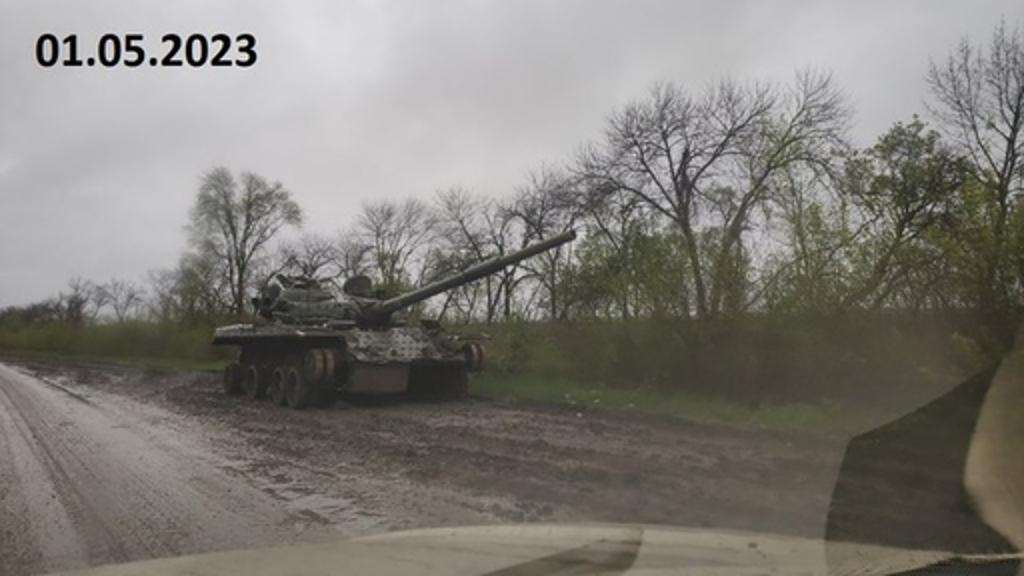TANK: (210, 226, 580, 408)
